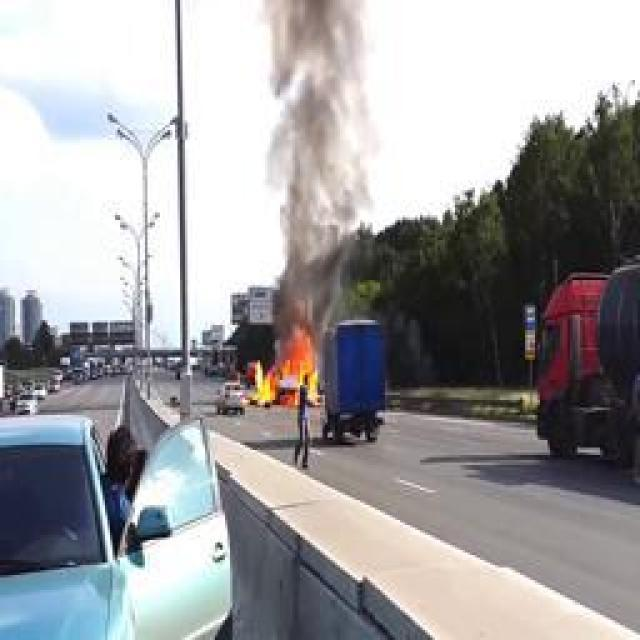Fire: (254, 329, 322, 409)
